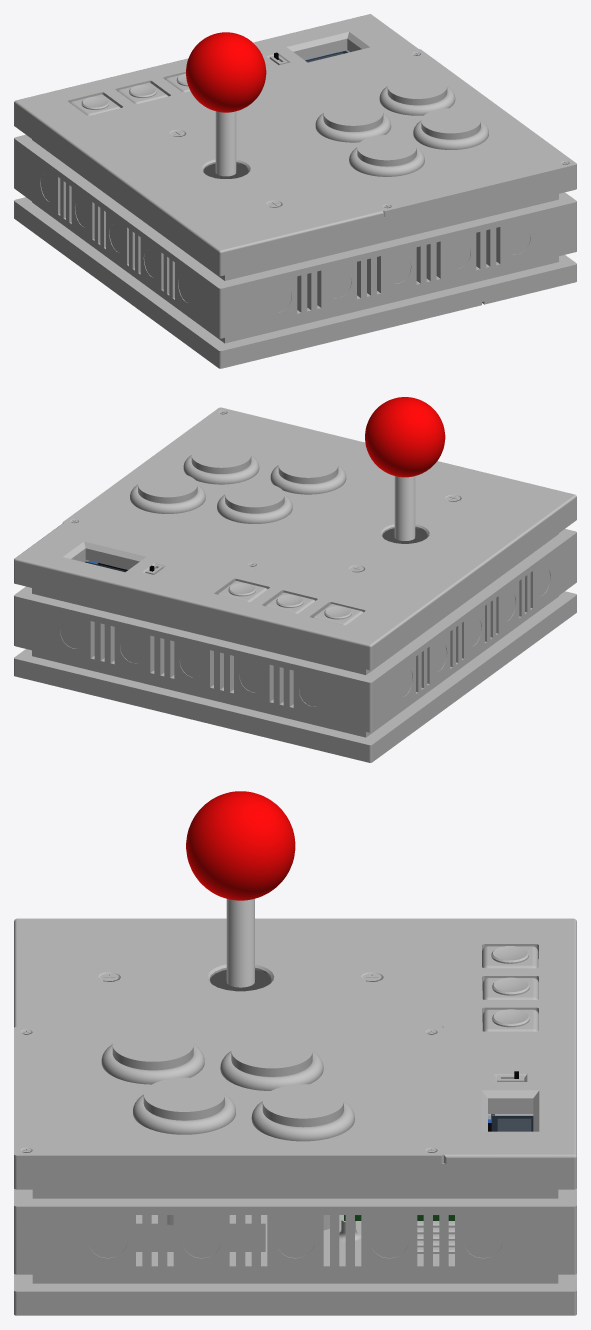
The model's file is RevFinalJoystickModule_2026-03-15.glb.
3 renders of one model, top to bottom at view 1: azimuth 30°, elevation 25°; view 2: azimuth 150°, elevation 25°; view 3: azimuth 270°, elevation 25°, orthographic. The views are drawn at different scales.
Visible parts, largest first — view 1: Solid1 (×21); view 2: Solid1 (×21); view 3: Solid1 (×23).
Boxes of the visible parts, x1,y1,x2,y2 form: Solid1 (×21): [14, 14, 576, 368]; Solid1 (×21): [14, 397, 576, 762]; Solid1 (×23): [14, 791, 576, 1315].
Size of the model in its own units: 0.18 by 0.1203 by 0.18.
